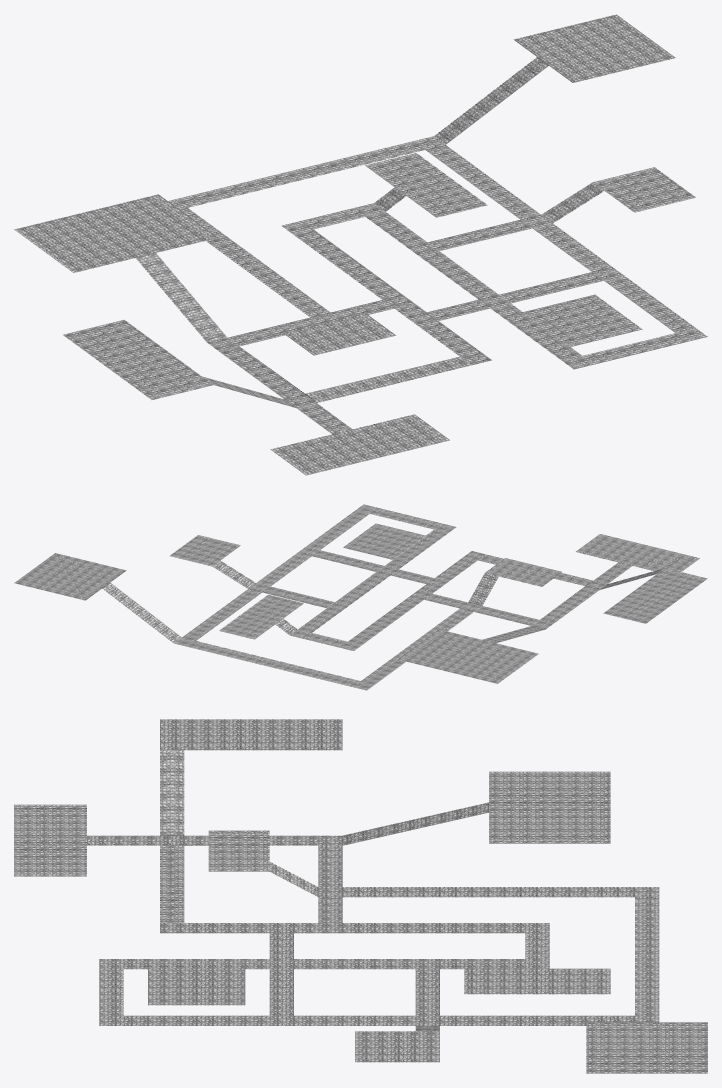
Rendered from dungeon.obj.
The picture shows the model from 3 angles, top to bottom: view 1: azimuth 30°, elevation 25°; view 2: azimuth 150°, elevation 25°; view 3: azimuth 270°, elevation 25°; orthographic projection. The views are drawn at different scales.
Parts seen in each view (by area): view 1: Plane.001; view 2: Plane.001; view 3: Plane.001.
Part boxes in pixels (x1=…): Plane.001: x1=14, y1=14, x2=707, y2=475; Plane.001: x1=14, y1=504, x2=707, y2=690; Plane.001: x1=14, y1=719, x2=707, y2=1073.
Size of the model in its own units: 71 by 5 by 57.
1 material, 1 textured.
